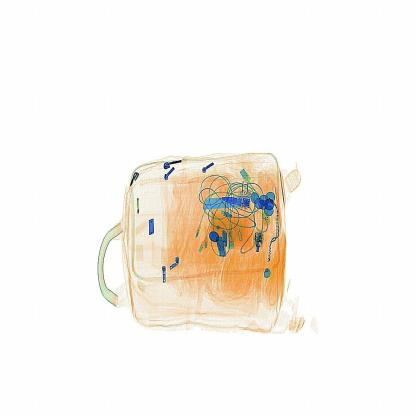pliers: (193, 188, 257, 216)
